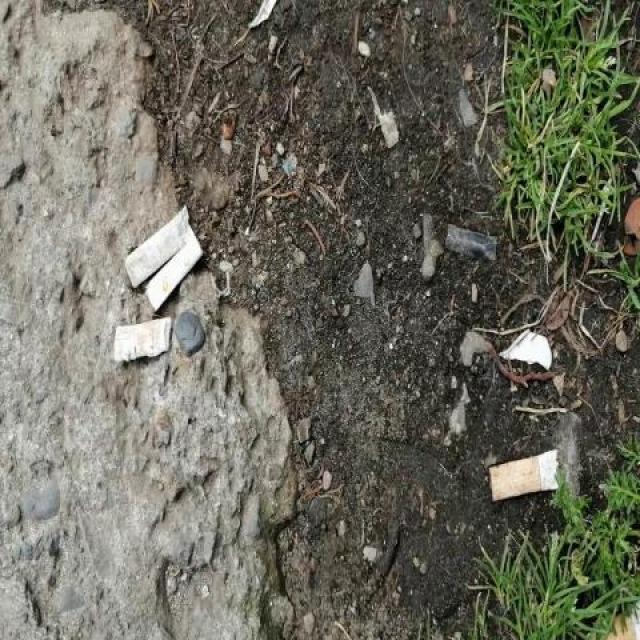non-organic waste: (122, 201, 193, 295), (144, 232, 208, 316), (484, 445, 564, 507), (108, 314, 180, 369)
